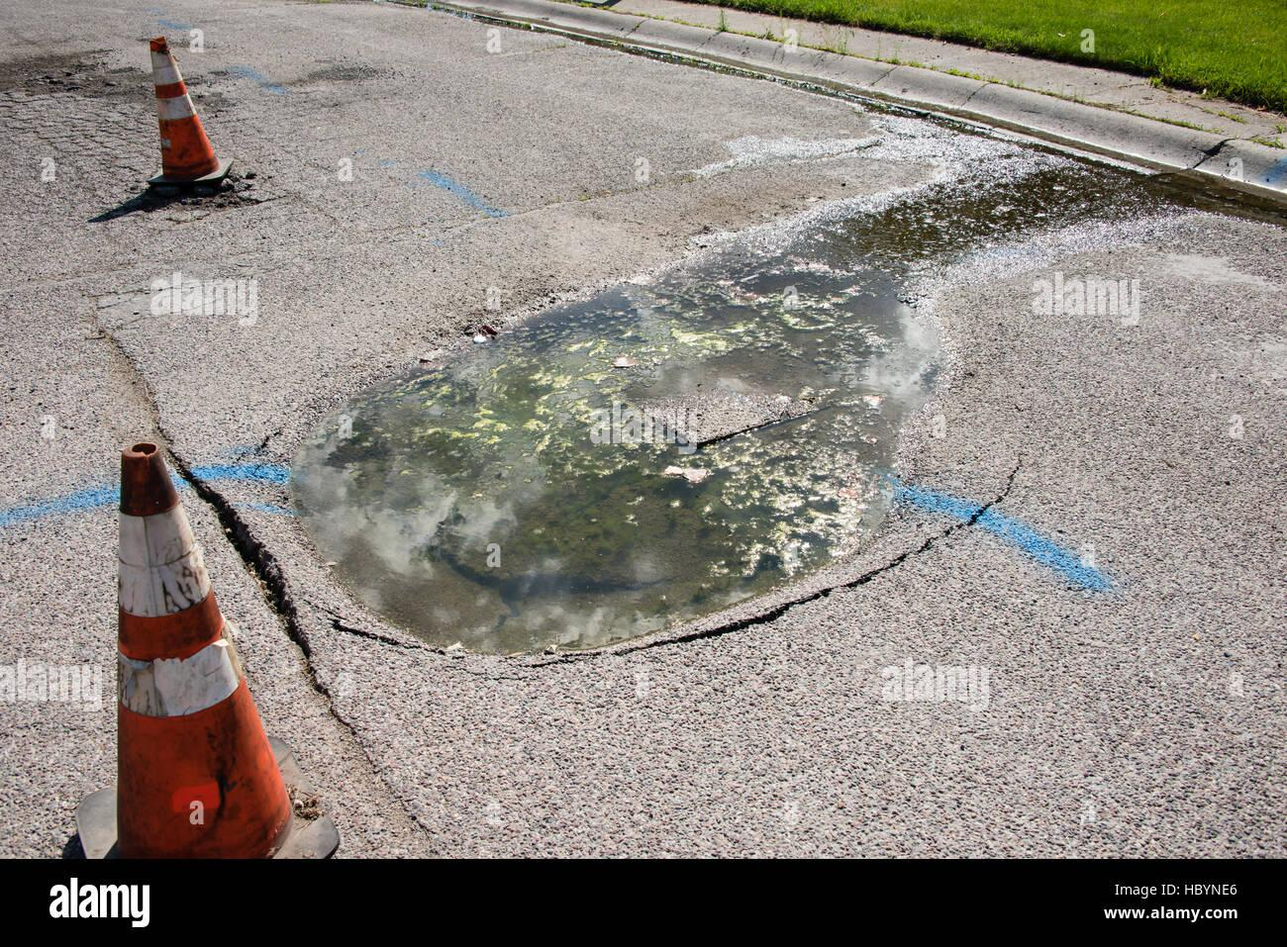water_leak: (281, 144, 1190, 658)
